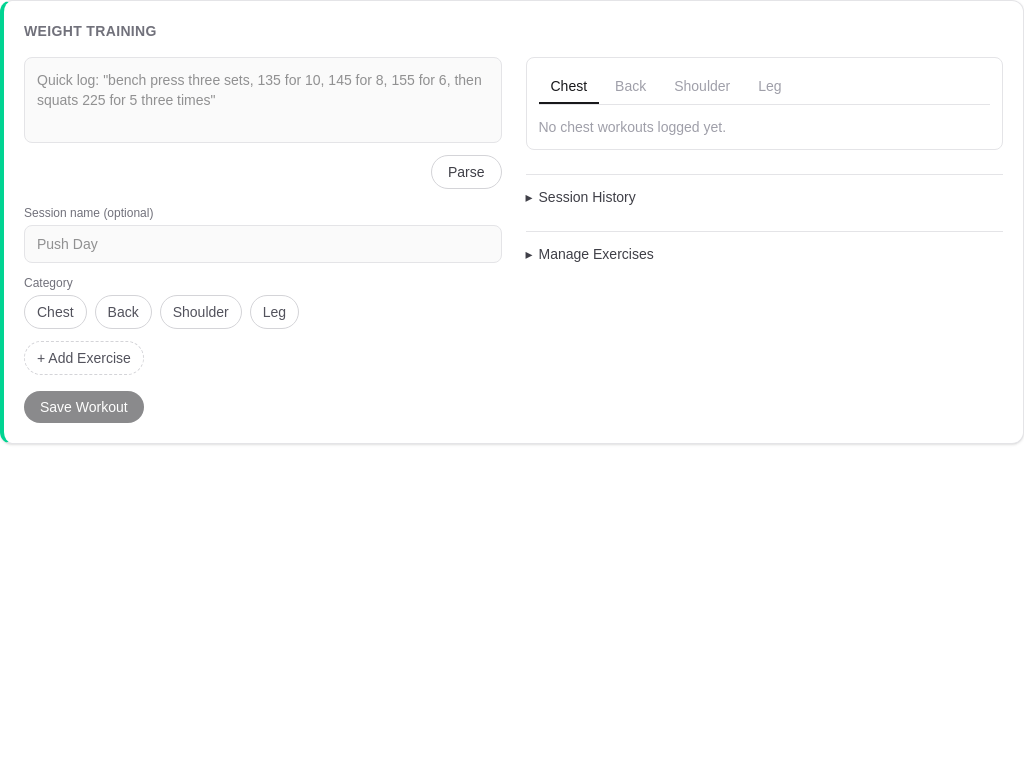
Test case: WorkoutCard › requires a category before saving
The width and height of the screenshot is (1024, 768).
Click the button "+ Add Exercise". click: click(84, 358)
box: [24, 341, 144, 375]
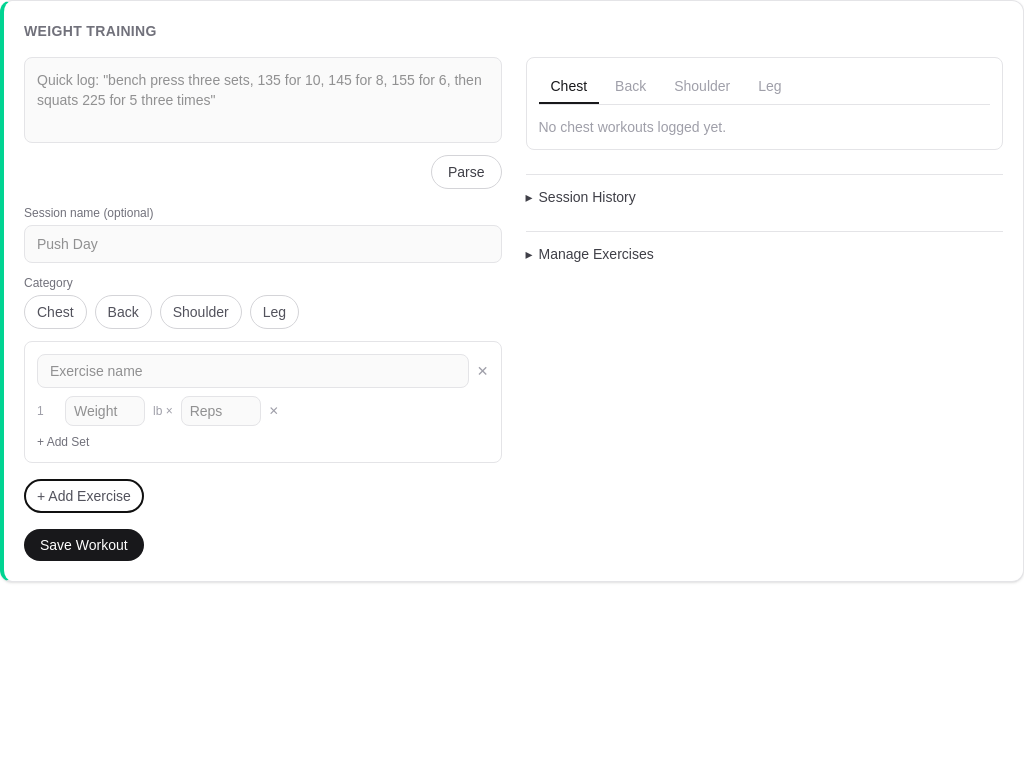
Type "Squat" into the field with placeholder "Exercise name". click: (253, 371)
box: [37, 354, 469, 388]
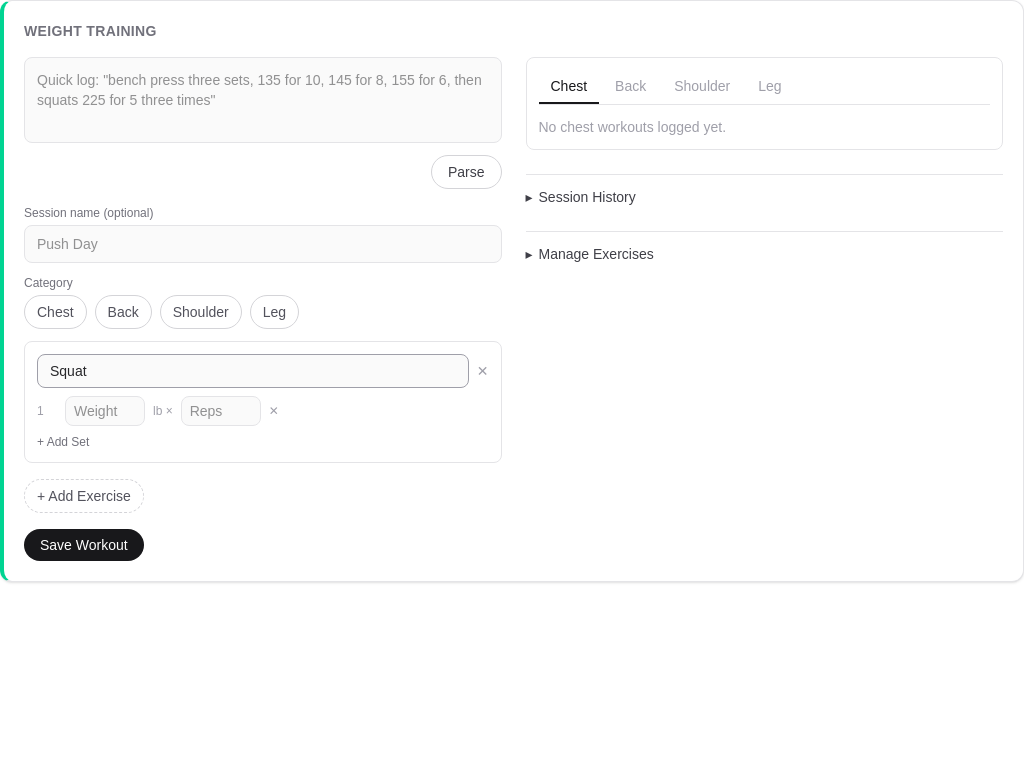
Type "150" into the number field with placeholder "Weight". click: (105, 411)
box: [65, 396, 145, 426]
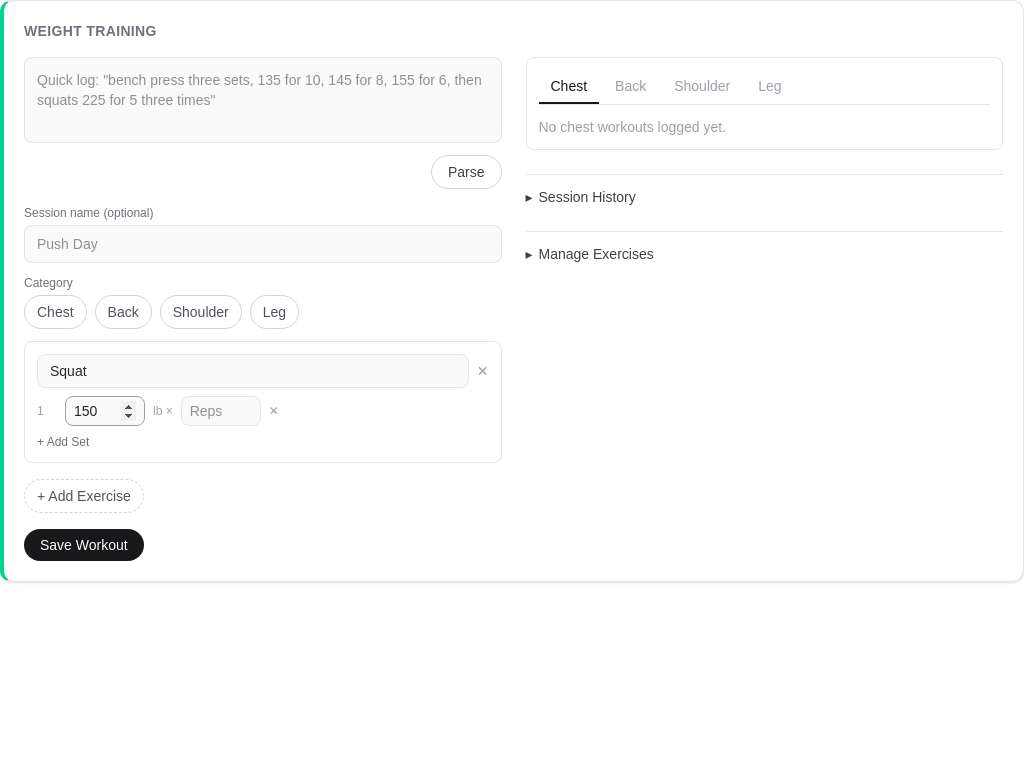
Type "10" into the number field with placeholder "Reps". click: (221, 411)
box: [181, 396, 261, 426]
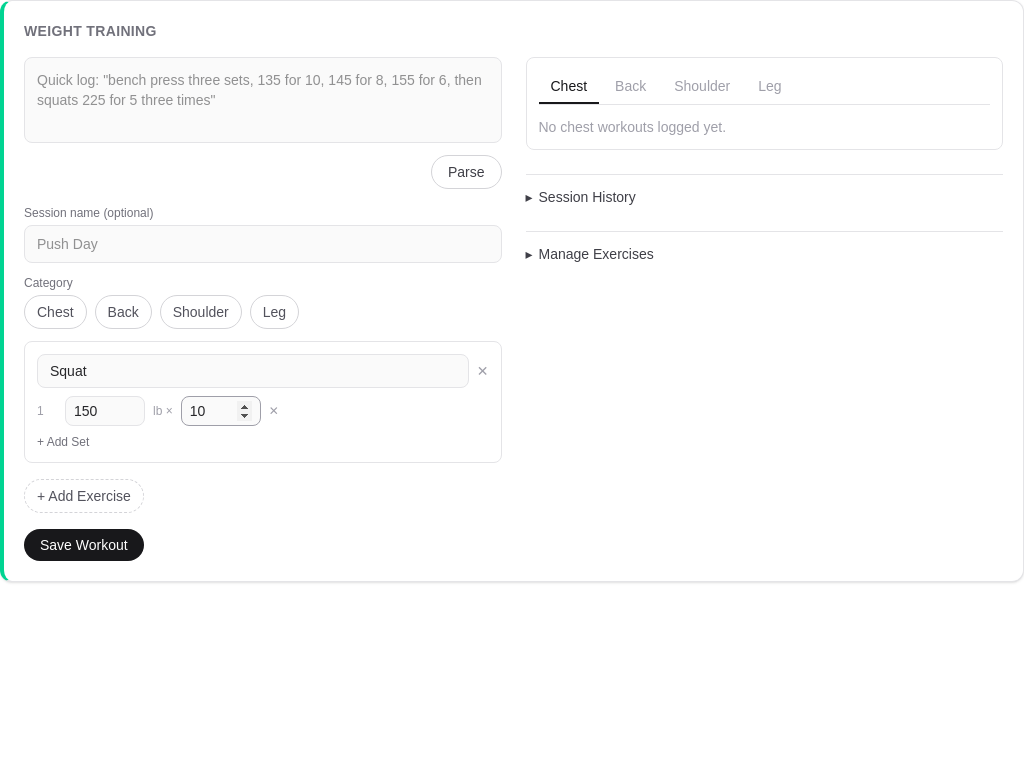
Click the button "Save Workout". click: click(84, 545)
box: [24, 529, 144, 561]
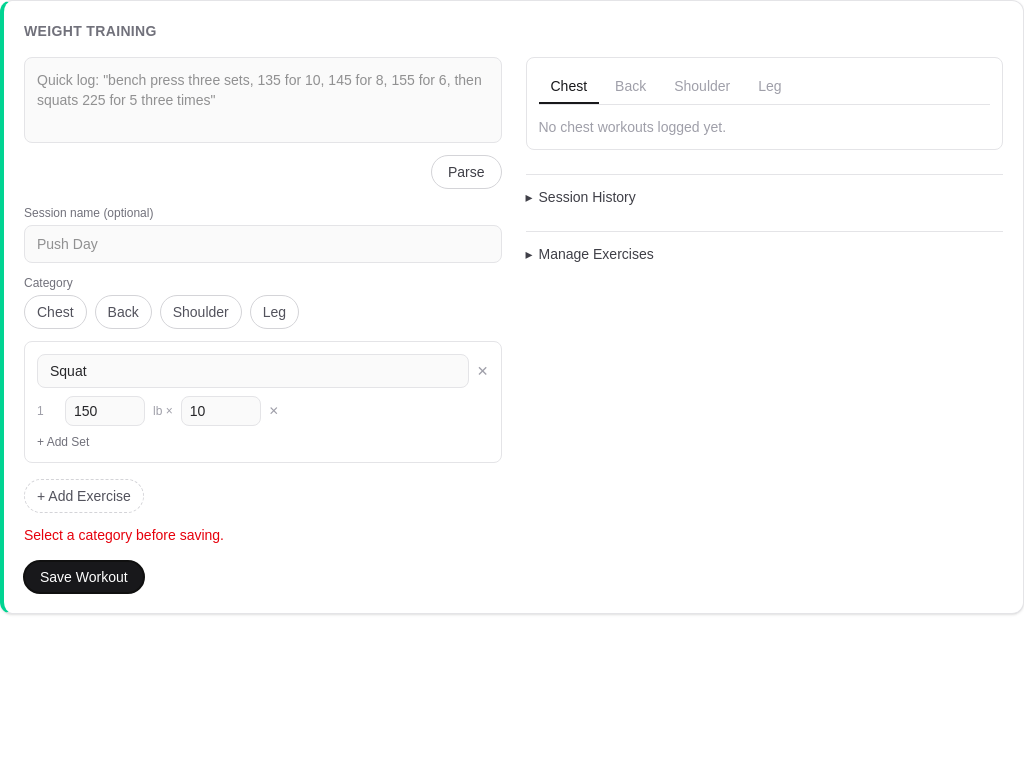
expect the message reads "Select a category before saving.": met, box [24, 527, 224, 543]
